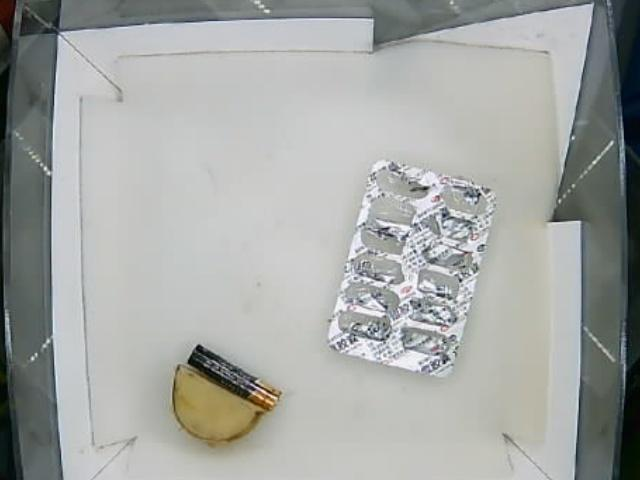Battery: (190, 347, 288, 410)
Medicine: (326, 161, 498, 378)
Potato: (173, 368, 262, 443)
